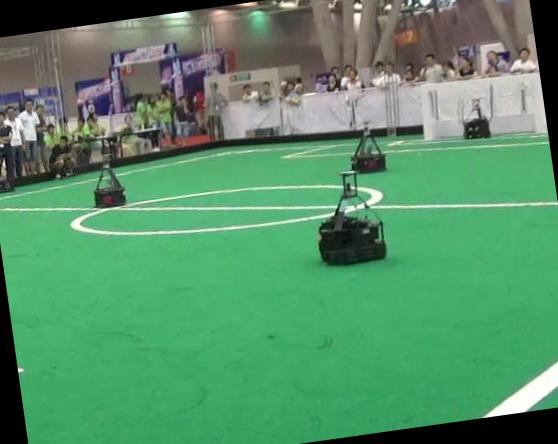goal: (531, 73, 547, 132), (421, 84, 435, 140)
robot: (319, 171, 387, 264), (351, 126, 386, 173), (94, 167, 125, 207), (463, 99, 491, 139)
